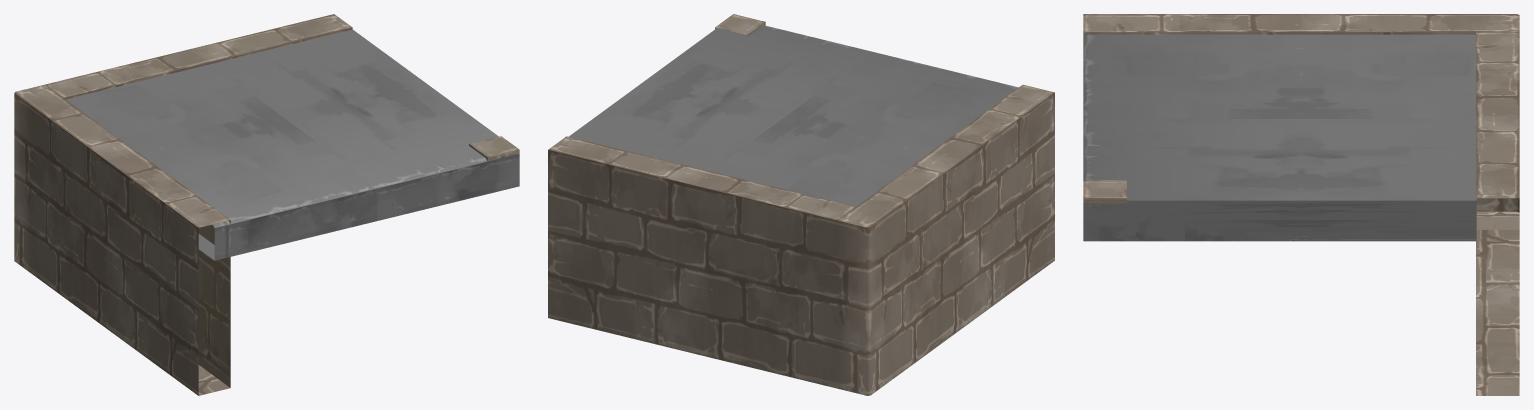
File: Stairs_Exterior_Platform45.gltf
The picture shows the model from 3 angles, left to right: view 1: azimuth 30°, elevation 25°; view 2: azimuth 150°, elevation 25°; view 3: azimuth 270°, elevation 25°; orthographic projection. The views are drawn at different scales.
Parts seen in each view (by area): view 1: Stairs_Exterior_Platform45; view 2: Stairs_Exterior_Platform45; view 3: Stairs_Exterior_Platform45.
Part boxes in pixels (x1=…): Stairs_Exterior_Platform45: x1=14, y1=14, x2=519, y2=395; Stairs_Exterior_Platform45: x1=548, y1=14, x2=1054, y2=395; Stairs_Exterior_Platform45: x1=1083, y1=14, x2=1519, y2=395.
Bounding box in the file's own units: 2 × 1 × 2.
Materials: 2 (2 with a texture image).
